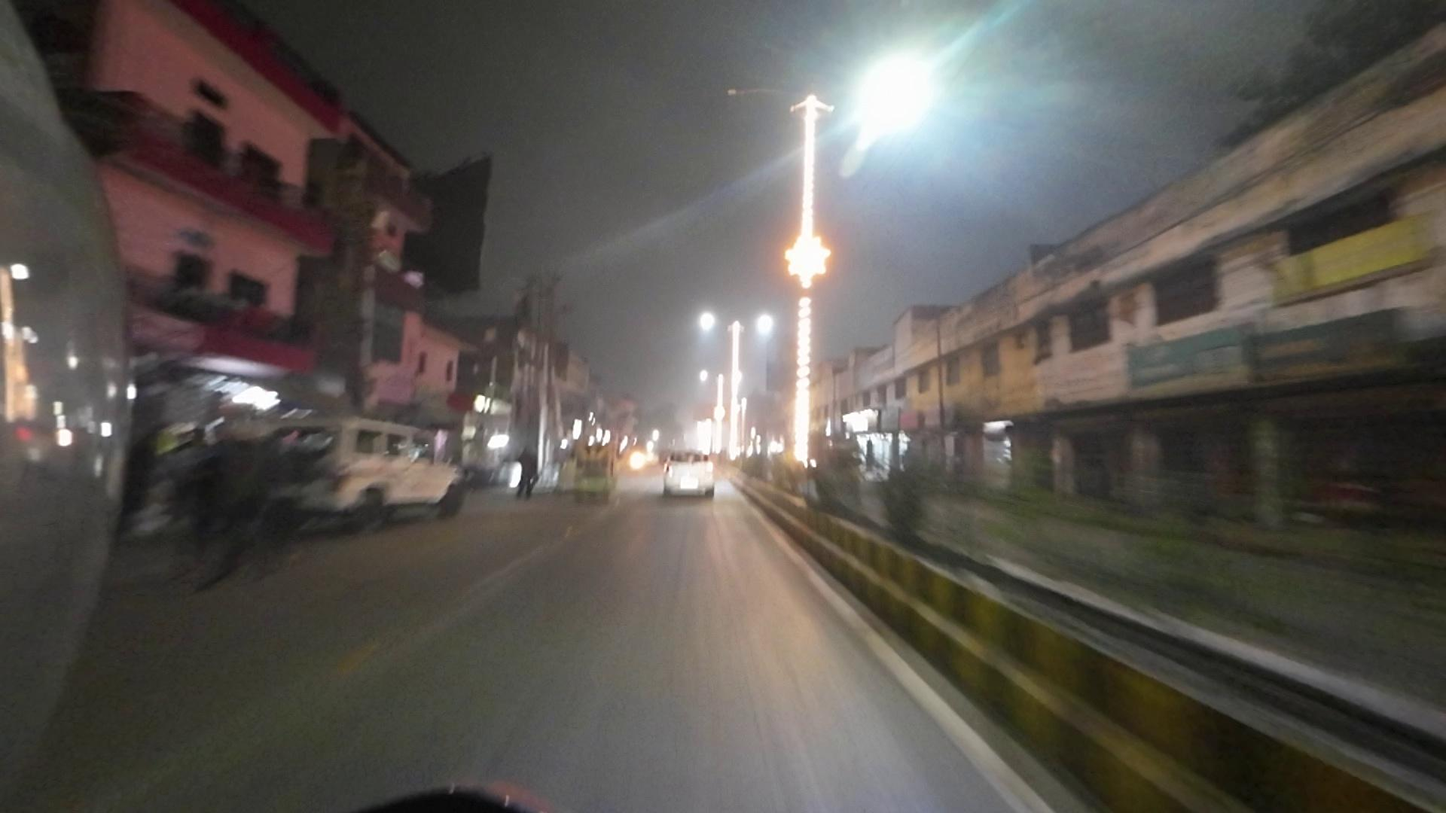streetlight: (717, 78, 792, 105)
